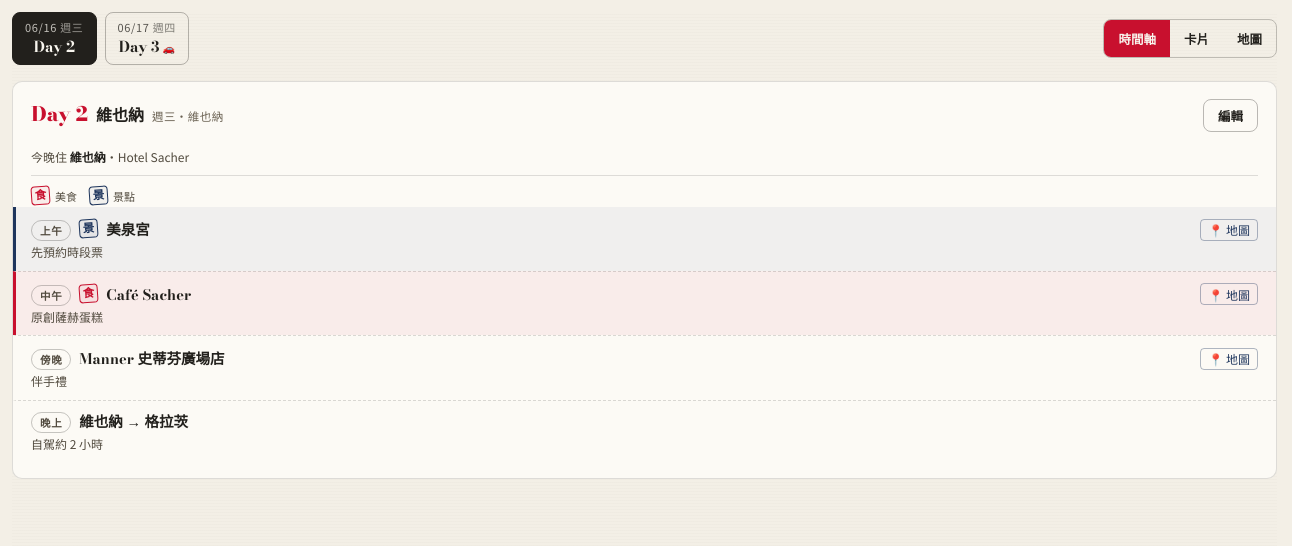
DailyPlan 提交回饋 › 提交成功時橫幅走成功樣式，與失敗明顯不同
Click the button "編輯".
click(1230, 116)  # box [1203,99,1258,132]
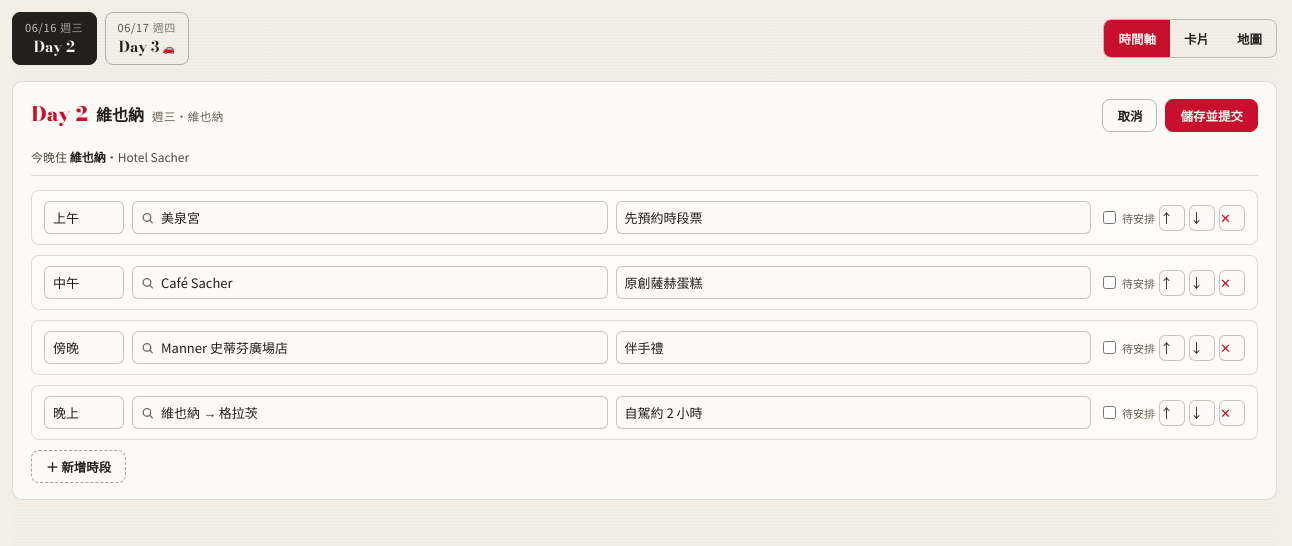
Click the button "儲存並提交".
click(1212, 116)  # box [1166,99,1258,132]
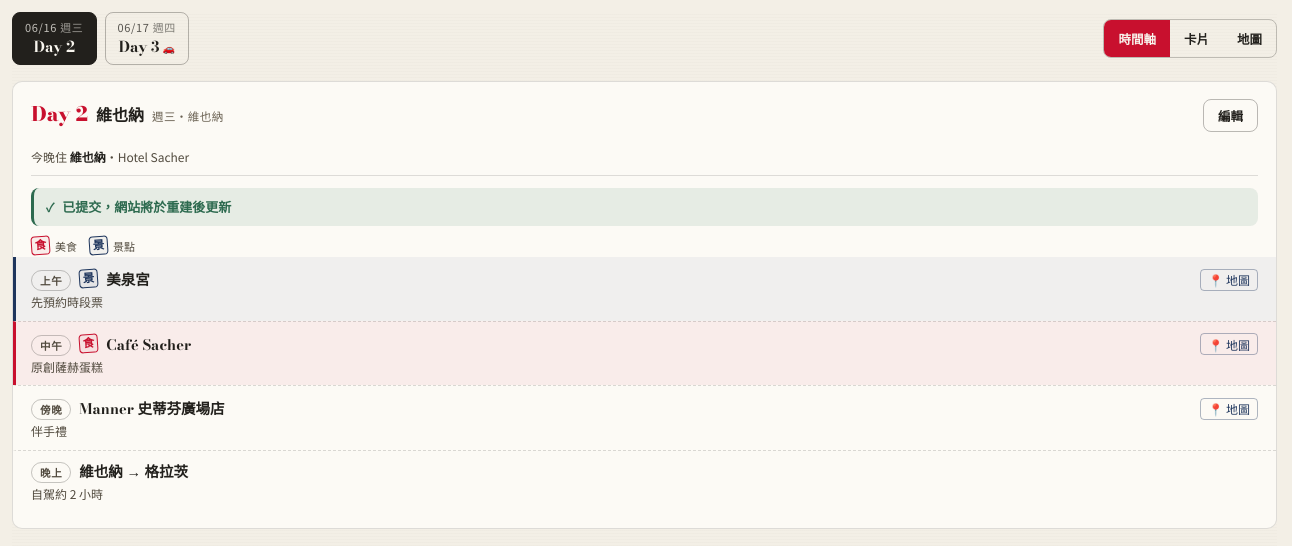
Expected: the message shows "已提交", [62,197,231,216]
